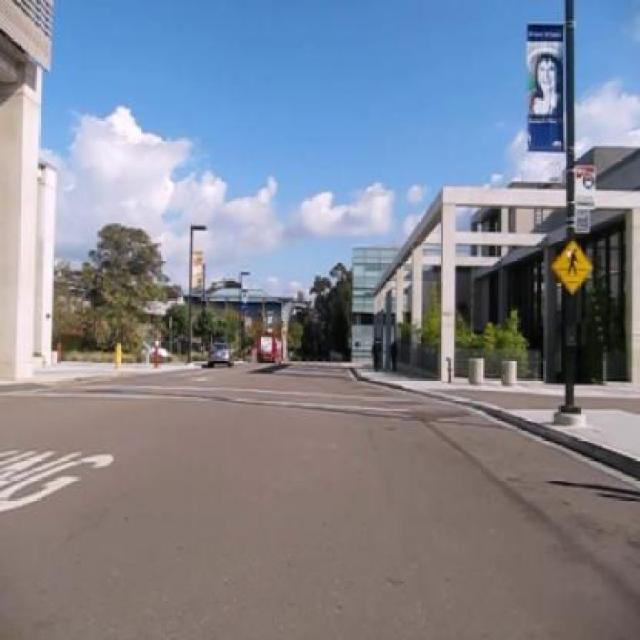pedestrianCrossing: (550, 237, 594, 295)
